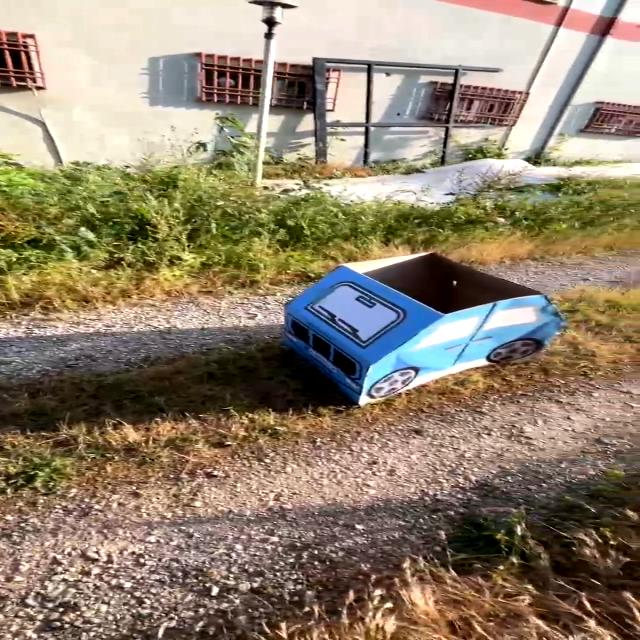blue_car: (239, 228, 605, 419)
